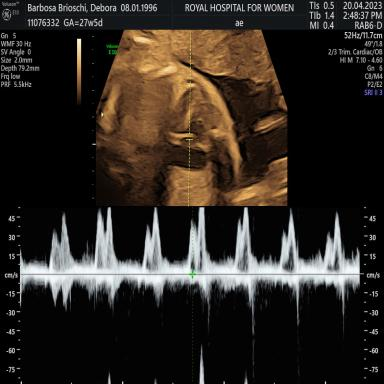Ultrasound-Waves: (29, 207, 356, 384)
